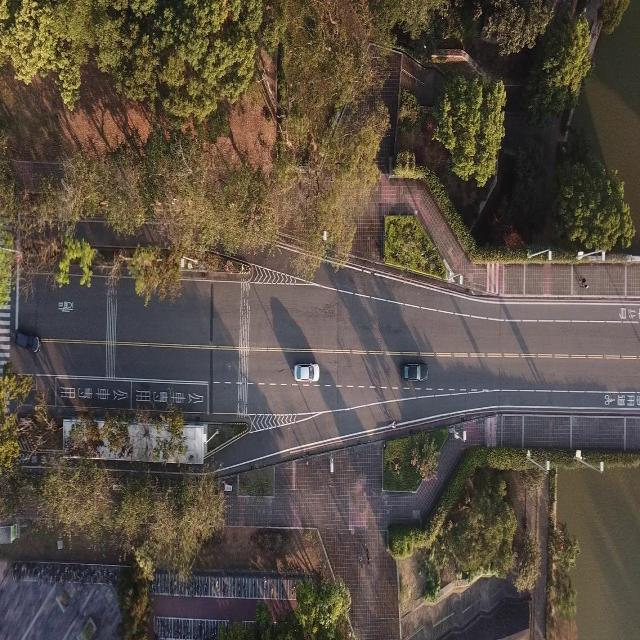car: (401, 362, 428, 383), (292, 362, 318, 382)
